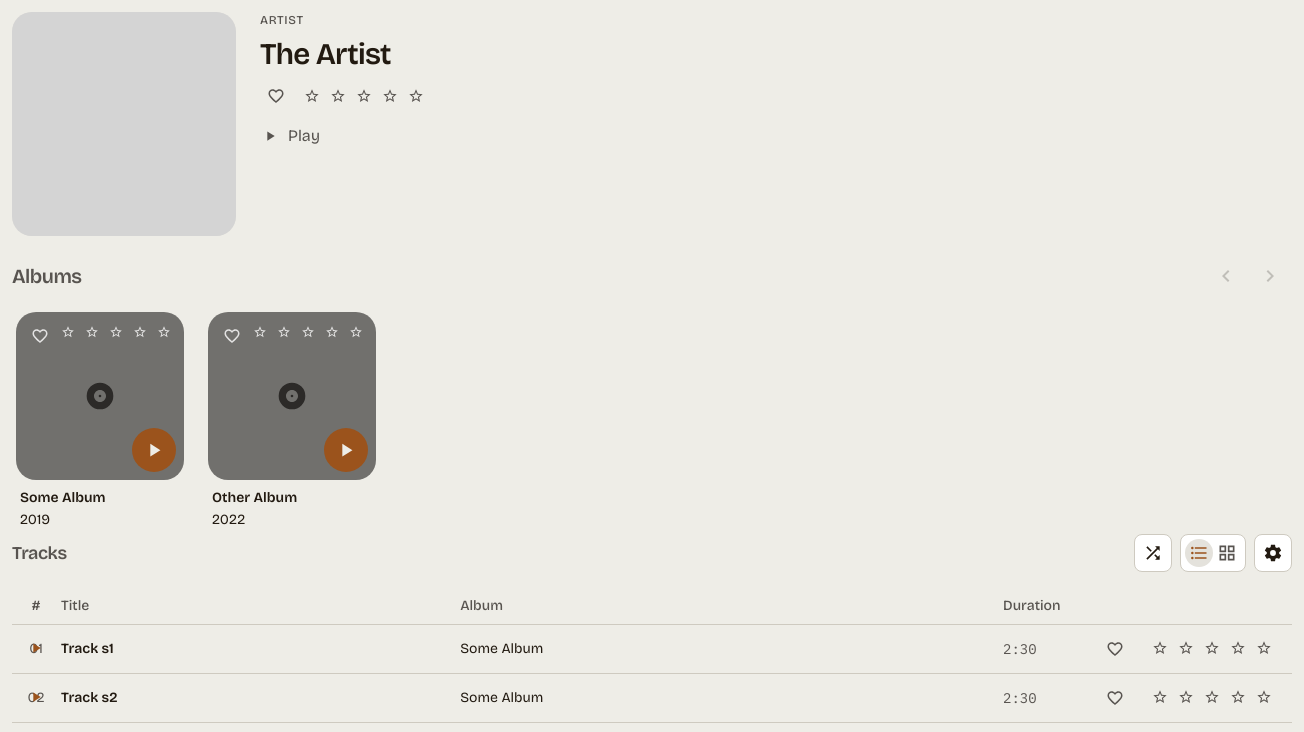
Test case: Artist detail (react-query, embedded songs, P5) › opens the track context menu on the track rows
Step 1. Right-click the link "Track s1" → (87, 648), box [61,640,114,657]
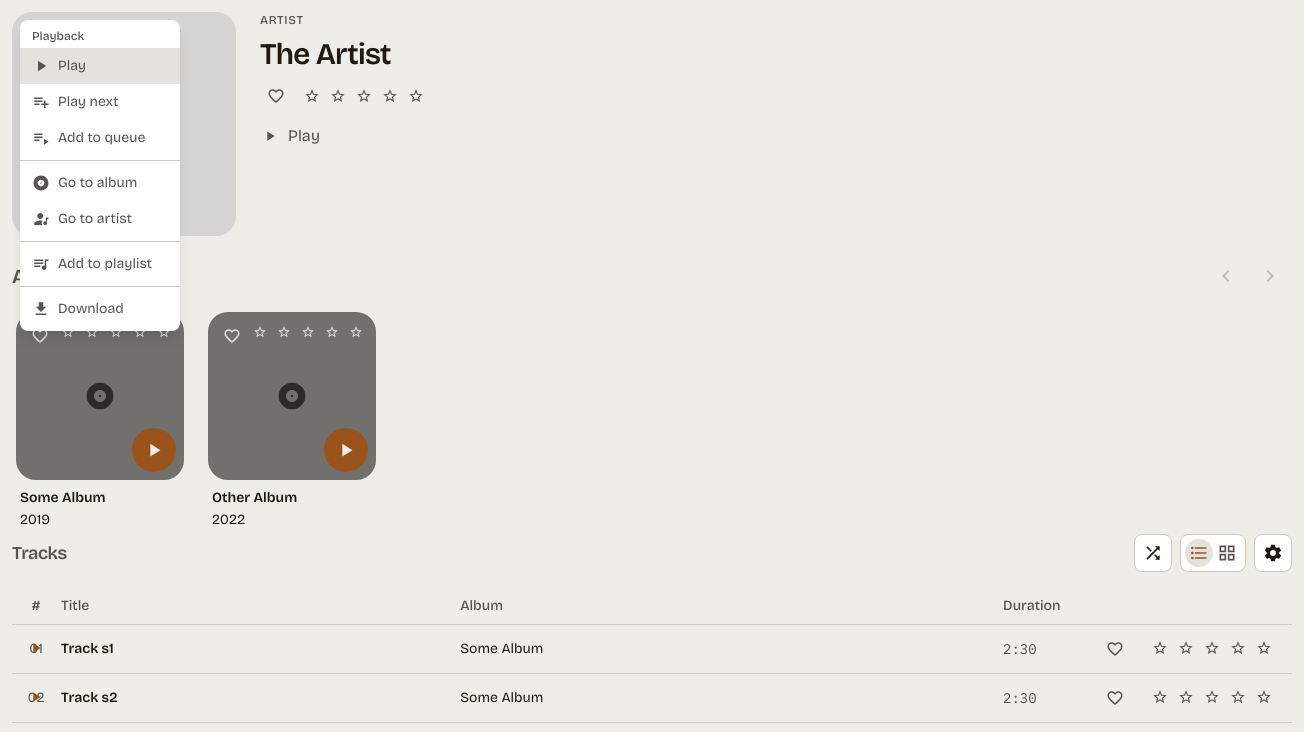
expect the menu is shown: met, box [20,20,180,331]
expect the menu item "Add to playlist" is shown: met, box [20,246,180,282]
